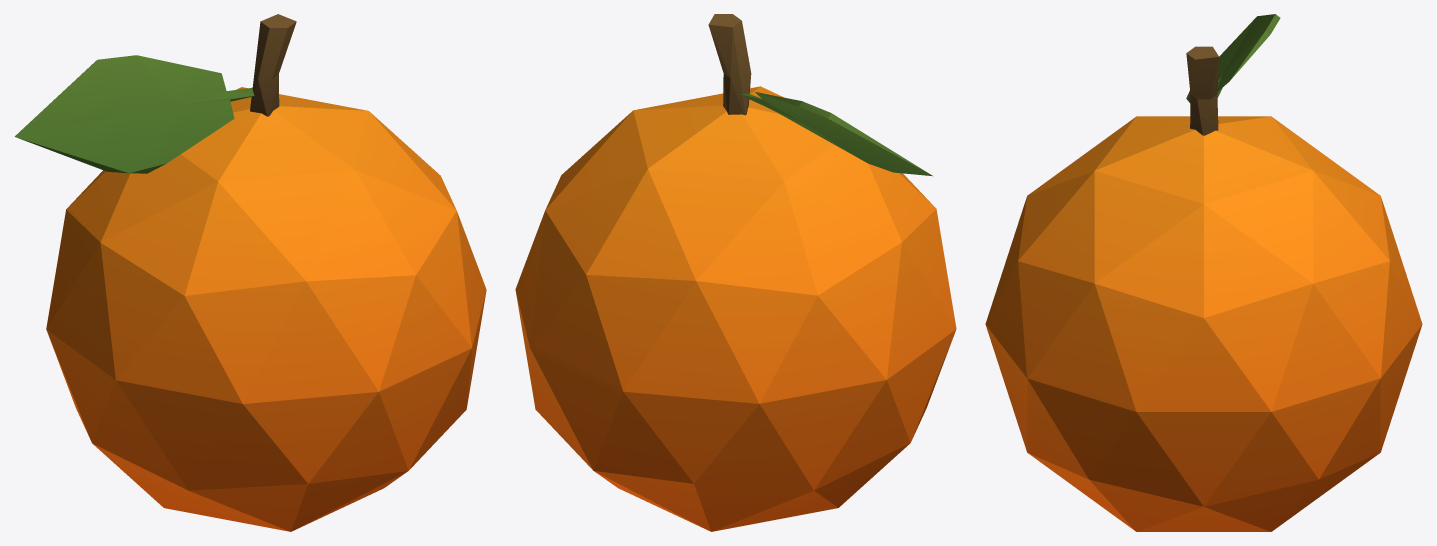
The model's file is Orange.fbx.
3 renders of one model, left to right at view 1: azimuth 30°, elevation 25°; view 2: azimuth 150°, elevation 25°; view 3: azimuth 270°, elevation 25°, orthographic. The views are drawn at different scales.
Visible parts, largest first — view 1: Orange; view 2: Orange; view 3: Orange.
Boxes of the visible parts, <box> form: Orange: <box>14,14,486,531</box>; Orange: <box>515,14,956,531</box>; Orange: <box>985,14,1422,531</box>.
Bounding box in the file's own units: 0.3674 × 0.4087 × 0.3493.
